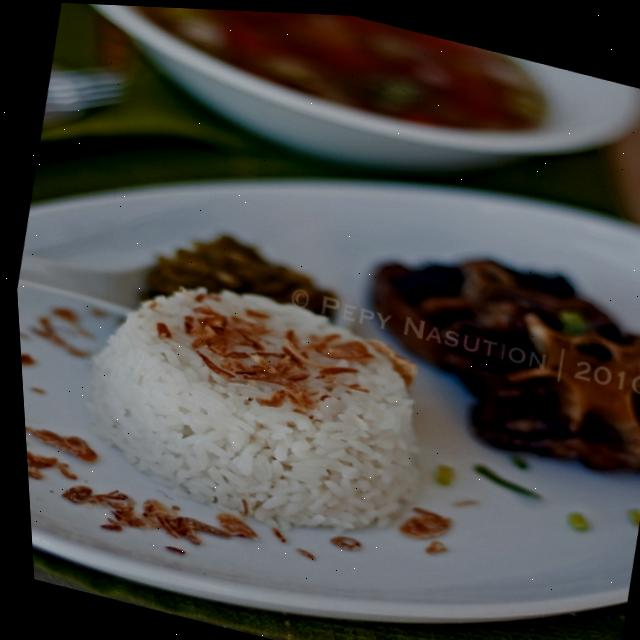米饭主食: (1, 27, 640, 640)
